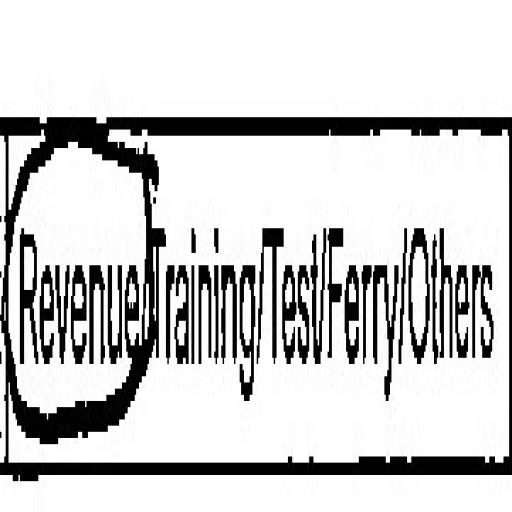check: (4, 0, 150, 512)
